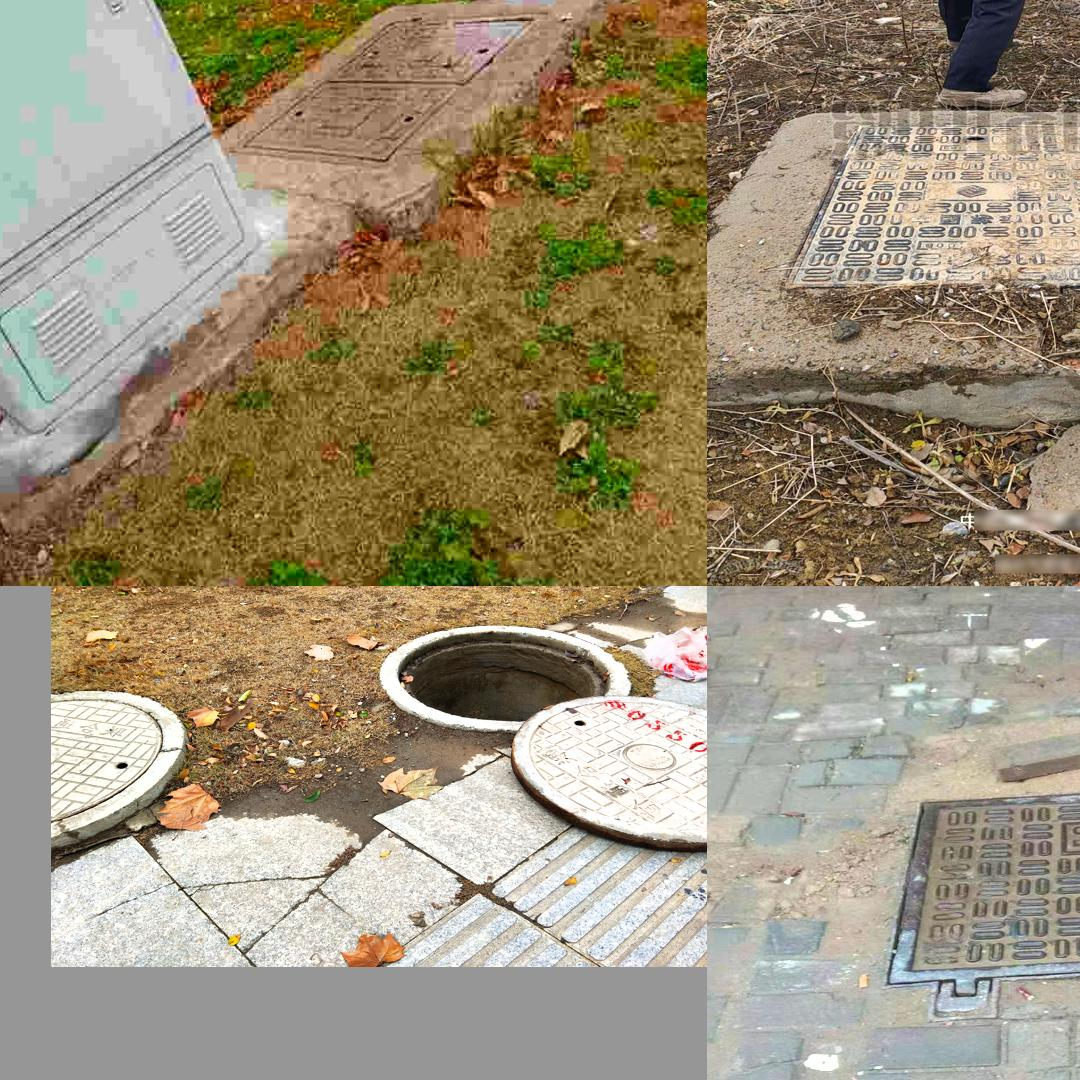good: (779, 119, 1080, 290), (229, 12, 540, 168), (886, 772, 1080, 1022), (51, 690, 185, 850)
uncovered: (382, 623, 706, 850)
